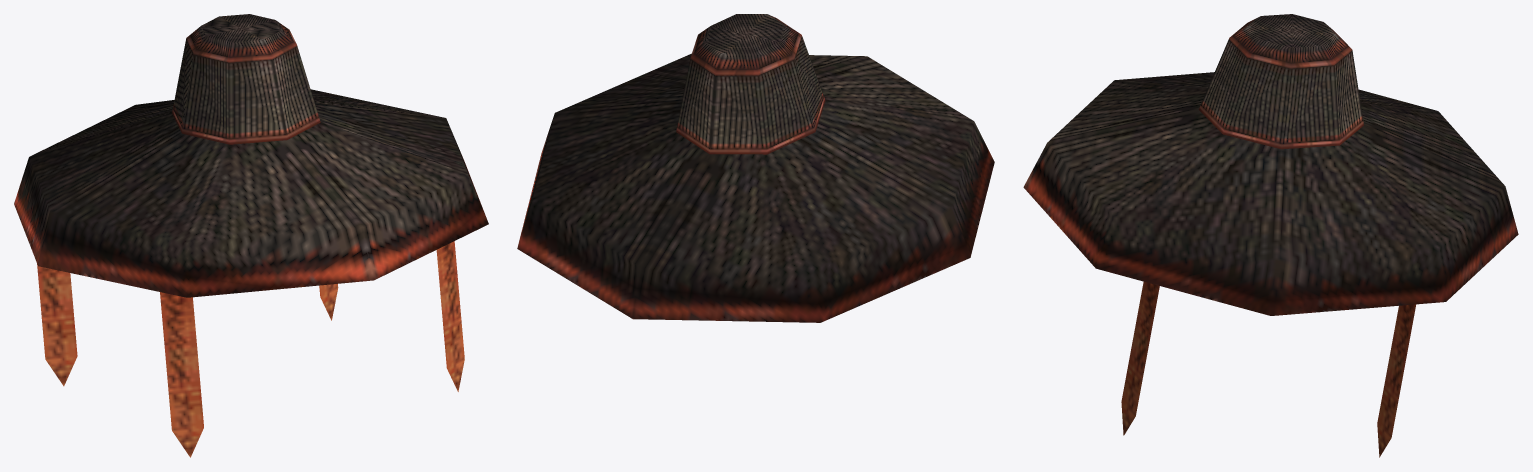
The picture shows the model from 3 angles, left to right: view 1: azimuth 30°, elevation 25°; view 2: azimuth 150°, elevation 25°; view 3: azimuth 270°, elevation 25°; orthographic projection.
Parts seen in each view (by area): view 1: clothes_03_ha, clothes_03_ha_2s; view 2: clothes_03_ha; view 3: clothes_03_ha, clothes_03_ha_2s.
Part boxes in pixels (x1,y1,x2,y2): clothes_03_ha: (14,14,488,297); clothes_03_ha_2s: (37,241,464,457); clothes_03_ha: (517,14,994,322); clothes_03_ha: (1023,14,1518,315); clothes_03_ha_2s: (1121,281,1416,457).
Bounding box in the file's own units: 0.5479 × 0.4434 × 0.5449.
1 material, 1 textured.
